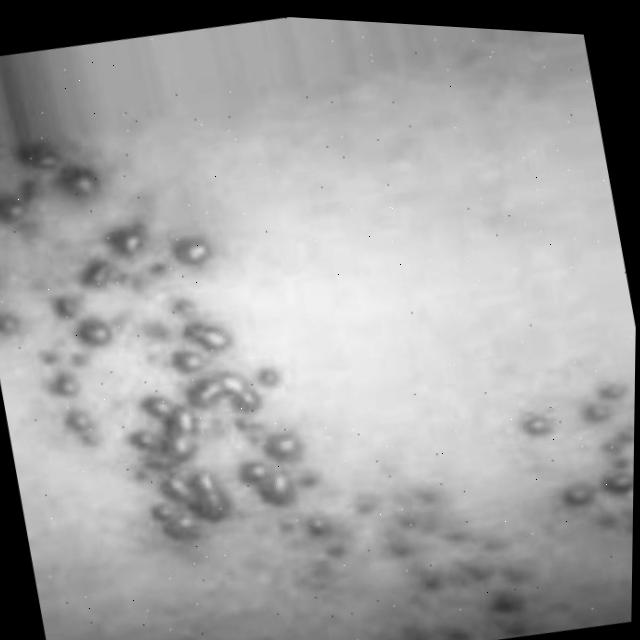Shingles: (0, 82, 352, 582), (294, 449, 548, 640), (500, 365, 635, 573)
